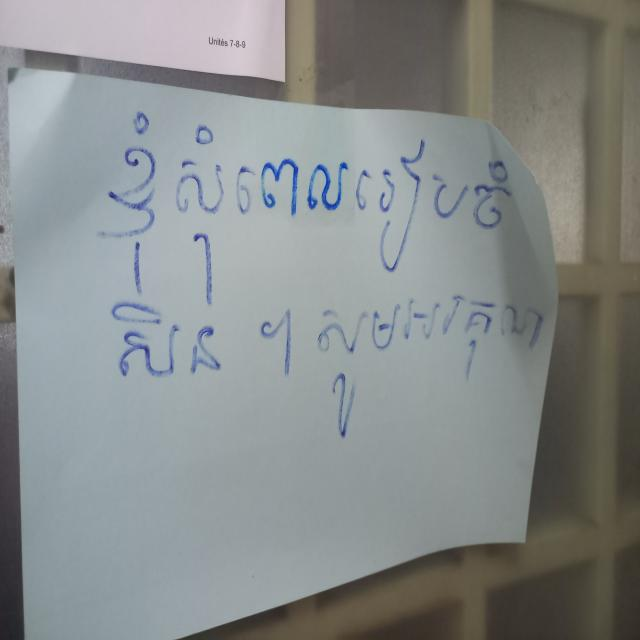1: (105, 293, 547, 470)
Yolov11kh: (104, 87, 520, 307)
